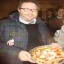pizza: (30, 45, 64, 64)
